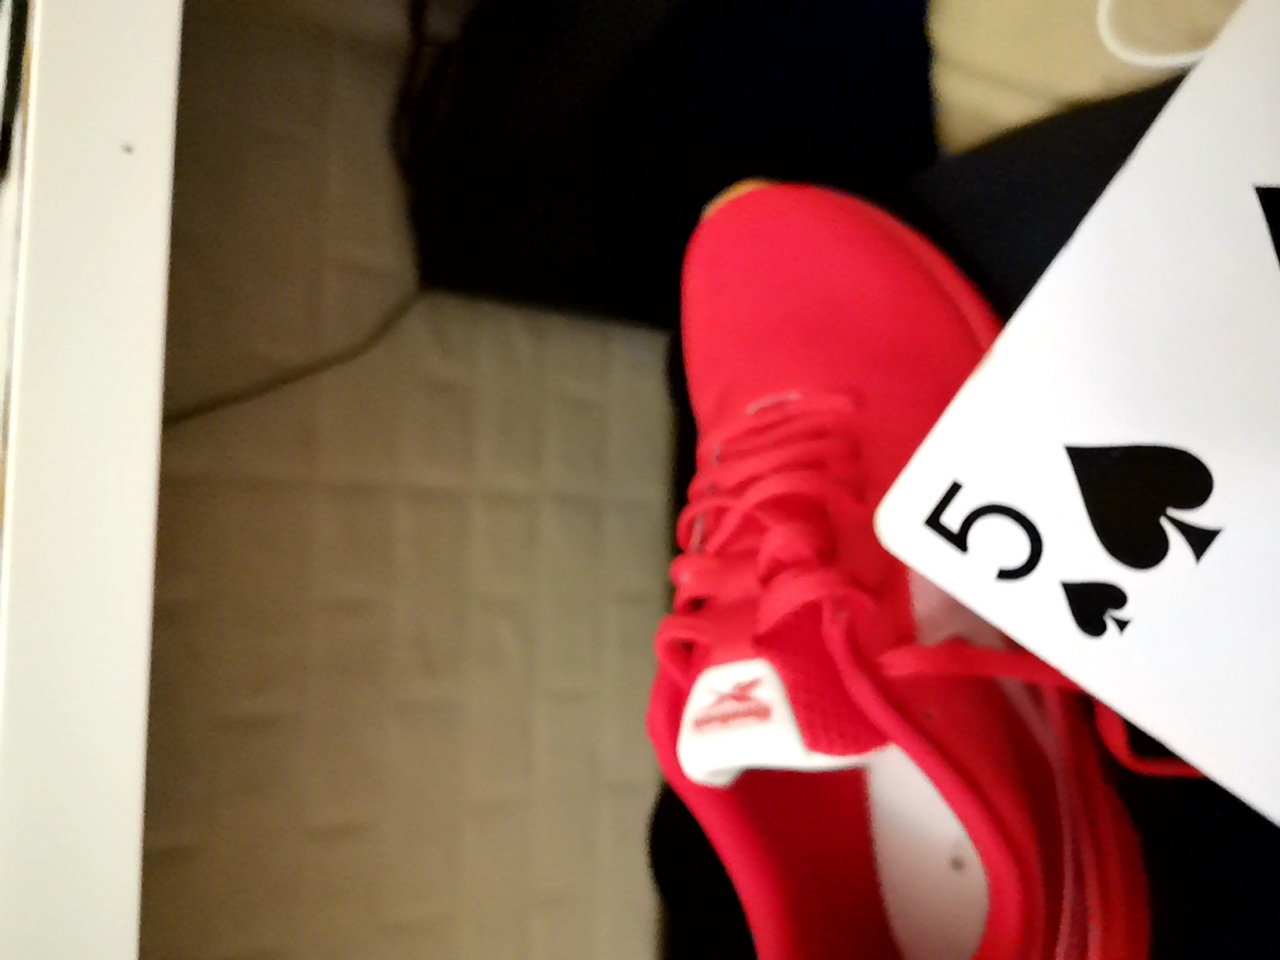ht 6: (422, 92, 1280, 812)
